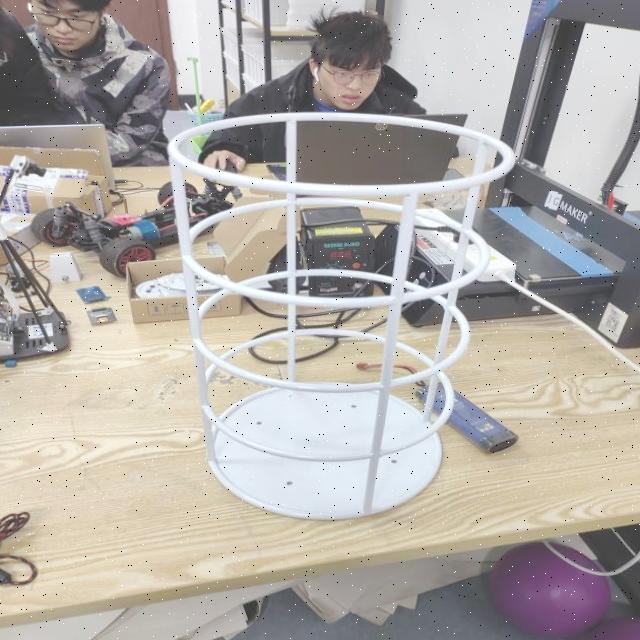S: (162, 105, 522, 527)
